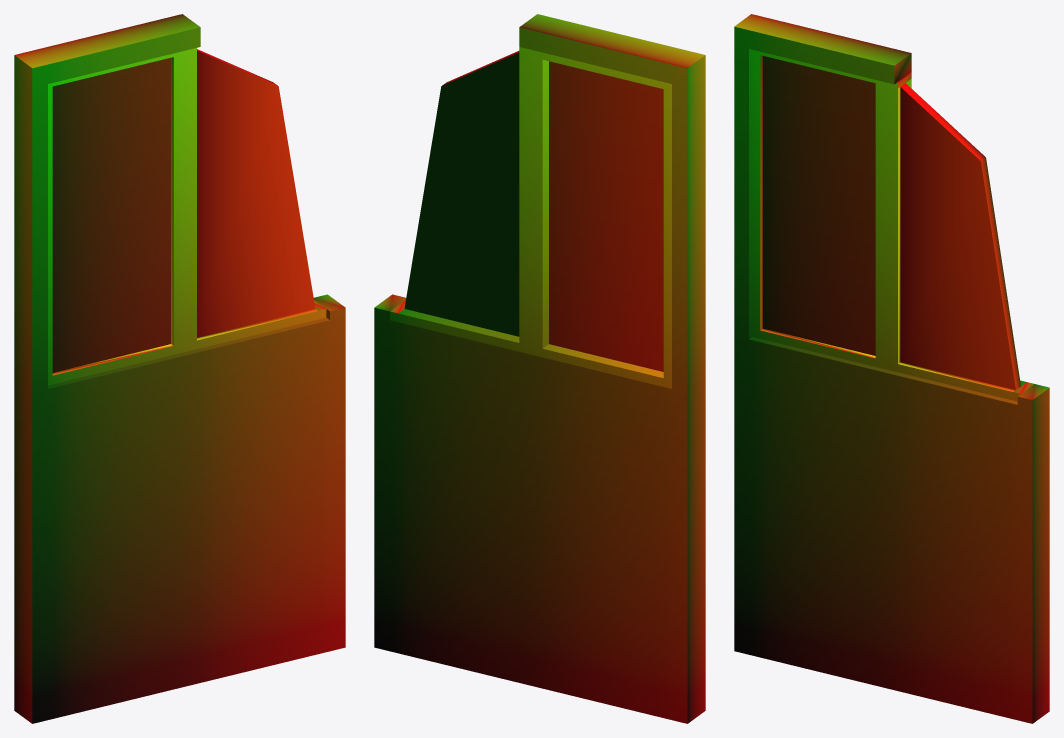
The model's file is Damaged_Window_1.fbx.
The picture shows the model from 3 angles, left to right: view 1: azimuth 30°, elevation 25°; view 2: azimuth 150°, elevation 25°; view 3: azimuth 330°, elevation 25°; orthographic projection. The views are drawn at different scales.
Visible parts, largest first — view 1: Box001; view 2: Box001; view 3: Box001.
Boxes of the visible parts, x1=… form: Box001: x1=14, y1=14, x2=345, y2=723; Box001: x1=374, y1=14, x2=705, y2=723; Box001: x1=734, y1=14, x2=1049, y2=723.
Bounding box in the file's own units: 100 × 200 × 10.
